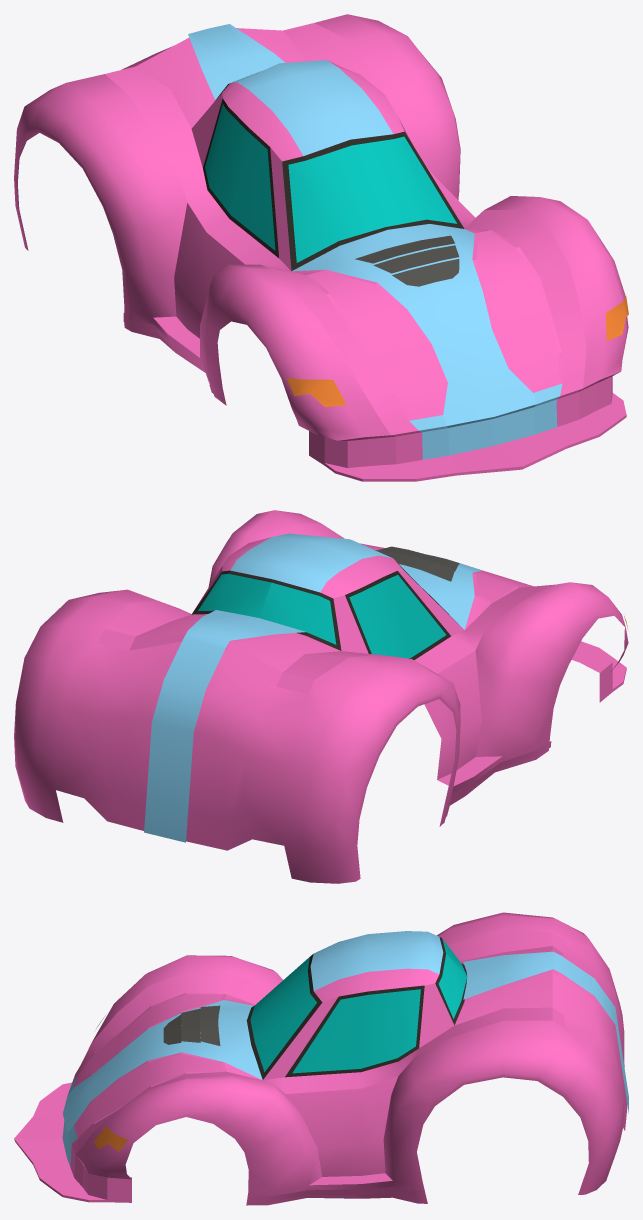
The model's file is LuxCasing00R03.gltf.
3 views of the same model, one above another, from view 1: azimuth 30°, elevation 25°; view 2: azimuth 150°, elevation 25°; view 3: azimuth 270°, elevation 25° (orthographic). The views are drawn at different scales.
Visible parts, largest first — view 1: LuxCasing00R03; view 2: LuxCasing00R03; view 3: LuxCasing00R03.
Part boxes in pixels (x1,y1,x2,y2): LuxCasing00R03: (14, 14, 628, 481); LuxCasing00R03: (14, 510, 628, 883); LuxCasing00R03: (14, 912, 628, 1205).
Size of the model in its own units: 0.2129 by 0.129 by 0.366.
Materials: 1 (1 with a texture image).
